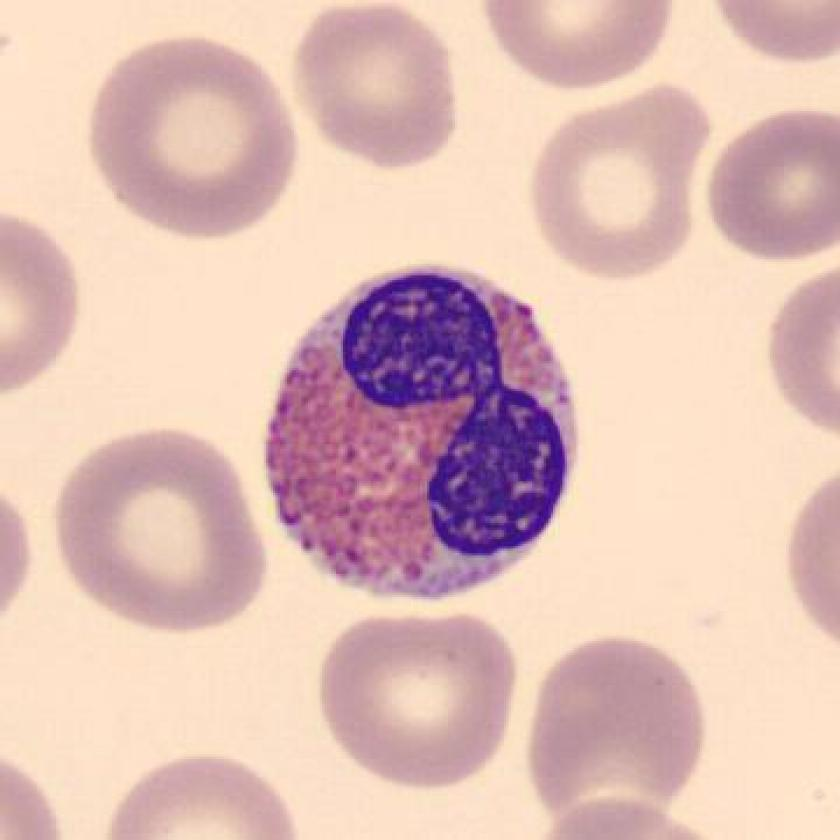eosinophil: (251, 249, 591, 617)
